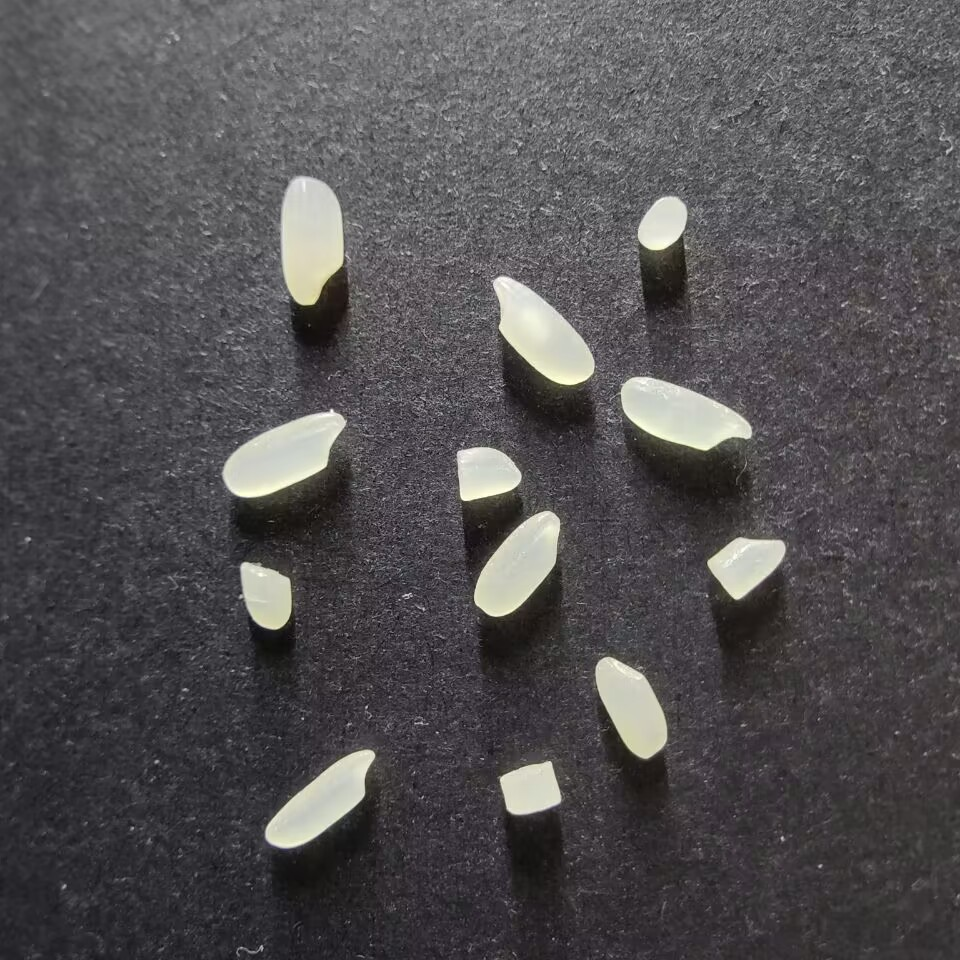broken: (706, 536, 787, 602), (239, 560, 294, 631), (456, 446, 522, 501), (498, 761, 563, 815), (636, 196, 687, 251)
rice: (491, 276, 597, 386), (264, 746, 375, 848), (221, 410, 345, 498), (619, 375, 753, 452), (472, 509, 560, 617), (279, 176, 344, 306), (593, 656, 669, 759)
